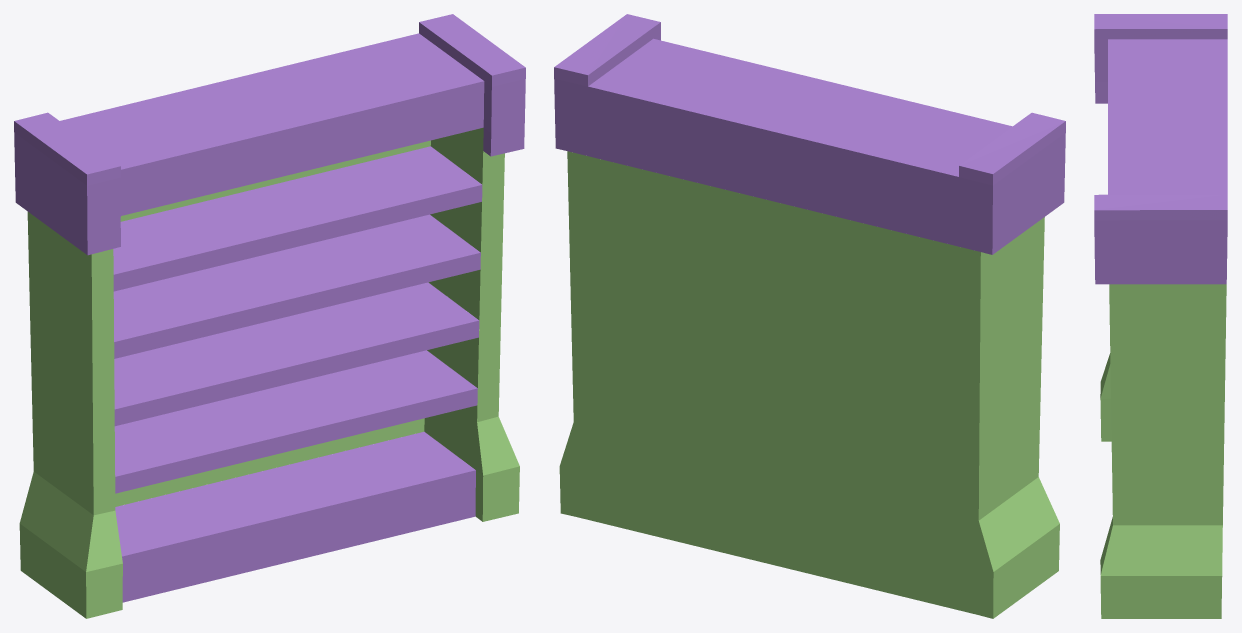
The model's file is BookCaseLarge.glb.
The picture shows the model from 3 angles, left to right: view 1: azimuth 30°, elevation 25°; view 2: azimuth 150°, elevation 25°; view 3: azimuth 270°, elevation 25°; orthographic projection. The views are drawn at different scales.
Parts seen in each view (by area): view 1: BookCaseLarge_0, BookCaseLarge_1; view 2: BookCaseLarge_1, BookCaseLarge_0; view 3: BookCaseLarge_1, BookCaseLarge_0.
Boxes of the visible parts, x1,y1,x2,y2 form: BookCaseLarge_0: [14, 14, 525, 602]; BookCaseLarge_1: [19, 127, 519, 618]; BookCaseLarge_1: [559, 151, 1059, 618]; BookCaseLarge_0: [554, 14, 1065, 254]; BookCaseLarge_1: [1100, 284, 1226, 618]; BookCaseLarge_0: [1094, 14, 1227, 284].
Size of the model in its own units: 1.57 by 1.53 by 0.452.
